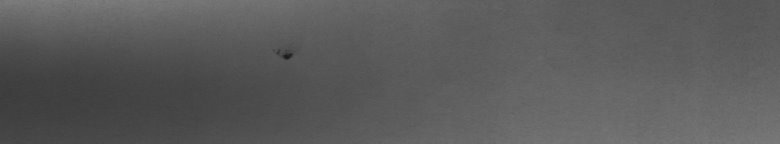fi: (273, 44, 297, 68)
